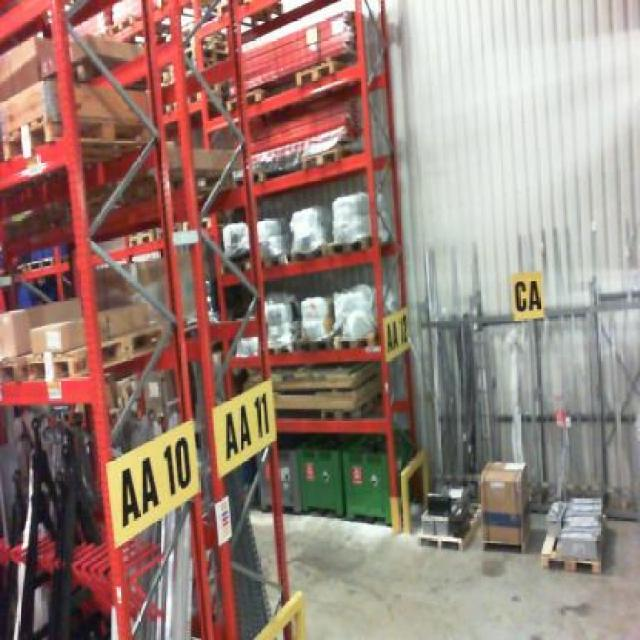ground: (286, 515, 638, 638)
pallet: (2, 317, 178, 383), (2, 109, 155, 168), (536, 528, 605, 576), (318, 388, 382, 421), (291, 55, 348, 89), (301, 143, 361, 172), (415, 526, 469, 557), (480, 528, 536, 556), (225, 85, 269, 113), (334, 330, 379, 351), (296, 337, 331, 353)
